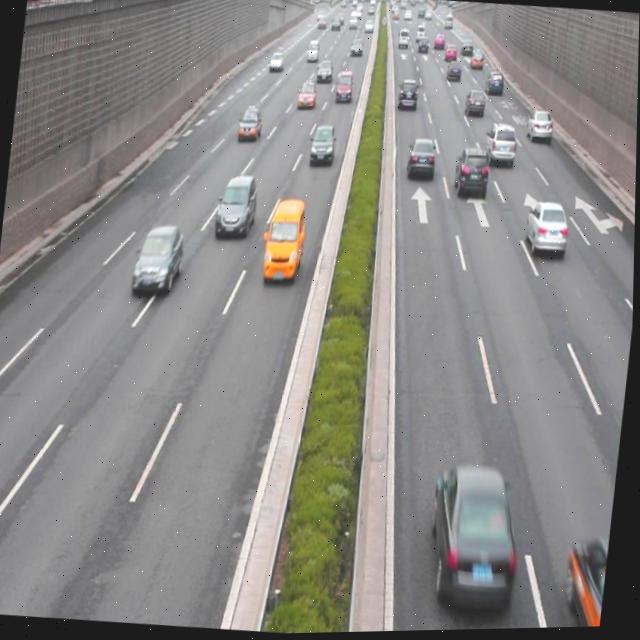car: (426, 464, 527, 613), (562, 536, 611, 630), (133, 222, 186, 298), (215, 172, 260, 240), (522, 199, 571, 260), (452, 147, 492, 203), (483, 121, 519, 169), (406, 135, 438, 182), (308, 122, 338, 167), (237, 104, 264, 145), (525, 109, 554, 146), (464, 88, 487, 121), (296, 79, 318, 112)
truck: (262, 199, 309, 283)
